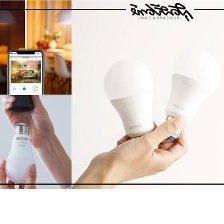light_bulb: (100, 53, 163, 156), (161, 48, 224, 148), (2, 118, 38, 185)
phone: (4, 46, 48, 118)
